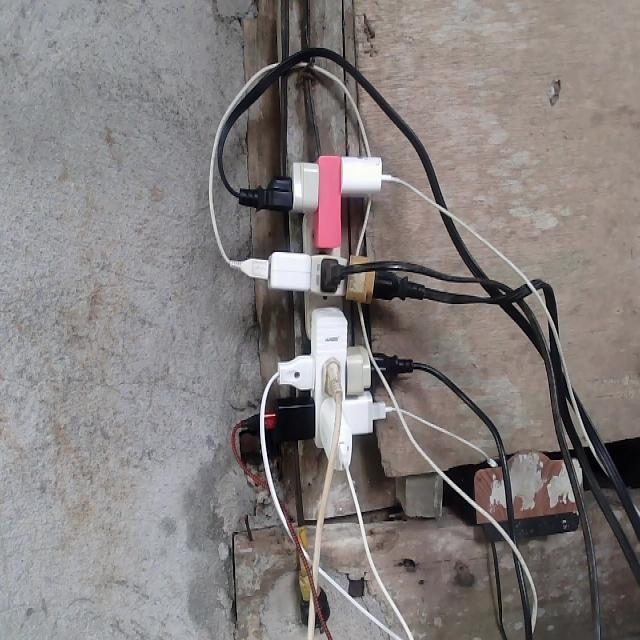-: (257, 152, 385, 469)
